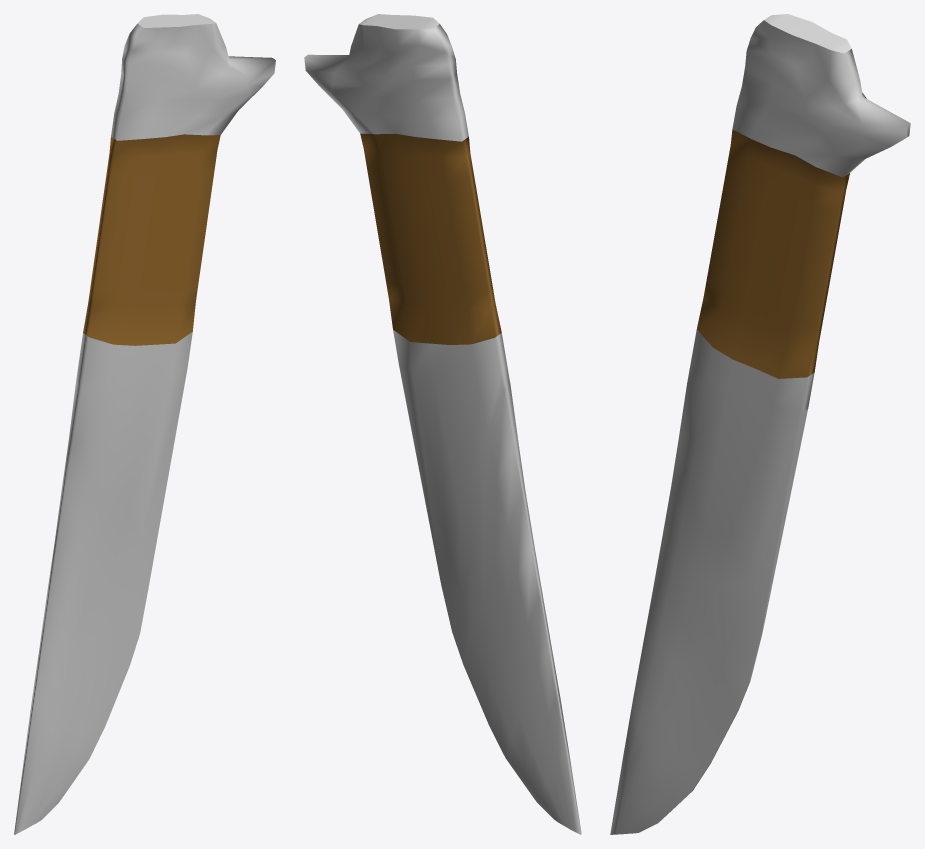
File: SM_BoneKnife_001.fbx
3 views of the same model, side by side, from view 1: azimuth 30°, elevation 25°; view 2: azimuth 150°, elevation 25°; view 3: azimuth 330°, elevation 25° (orthographic). The views are drawn at different scales.
Visible parts, largest first — view 1: BoneKnife; view 2: BoneKnife; view 3: BoneKnife.
Boxes of the visible parts, x1,y1,x2,y2 form: BoneKnife: (14, 14, 275, 834); BoneKnife: (304, 14, 581, 834); BoneKnife: (610, 14, 910, 834).
Size of the model in its own units: 12.39 by 34.36 by 1.94.
